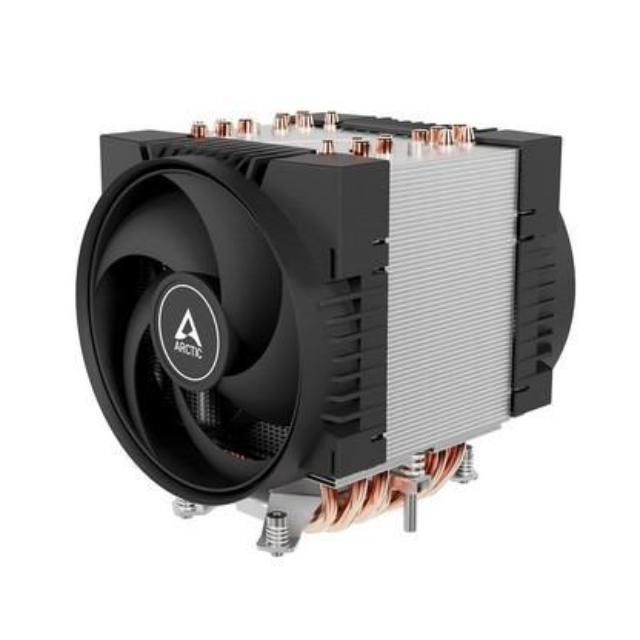CPU_Fan: (71, 101, 580, 556)
